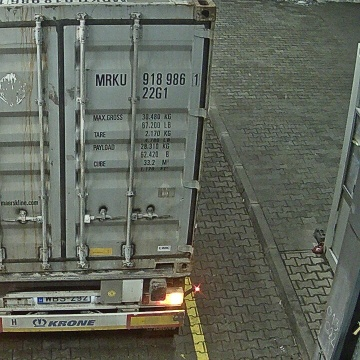serial_id: (96, 73, 198, 85)
